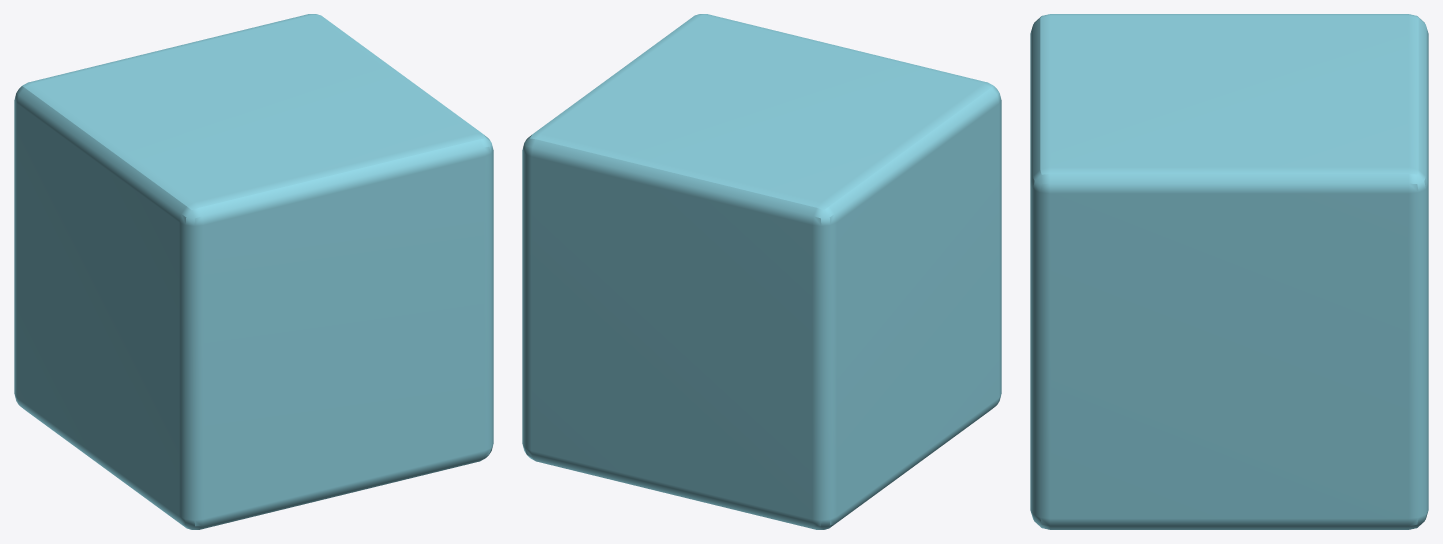
Rendered from Orb.fbx.
The picture shows the model from 3 angles, left to right: view 1: azimuth 30°, elevation 25°; view 2: azimuth 150°, elevation 25°; view 3: azimuth 270°, elevation 25°; orthographic projection. The views are drawn at different scales.
Parts seen in each view (by area): view 1: pCube18; view 2: pCube18; view 3: pCube18.
Boxes of the visible parts, x1,y1,x2,y2 form: pCube18: [14, 14, 493, 529]; pCube18: [522, 14, 1001, 529]; pCube18: [1030, 14, 1428, 529].
Bounding box in the file's own units: 0.7 × 0.7 × 0.7.
